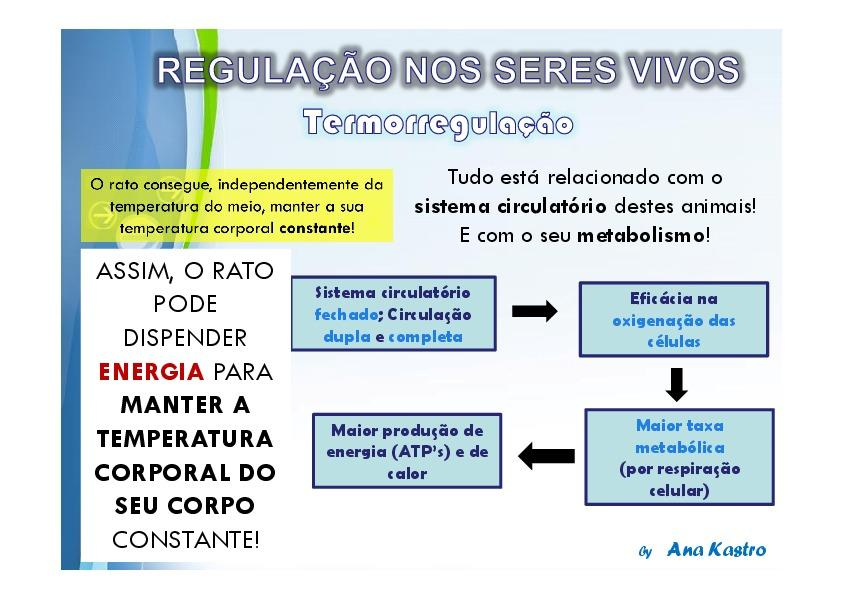paragraph: (80, 159, 813, 566)
title: (146, 33, 777, 152)
